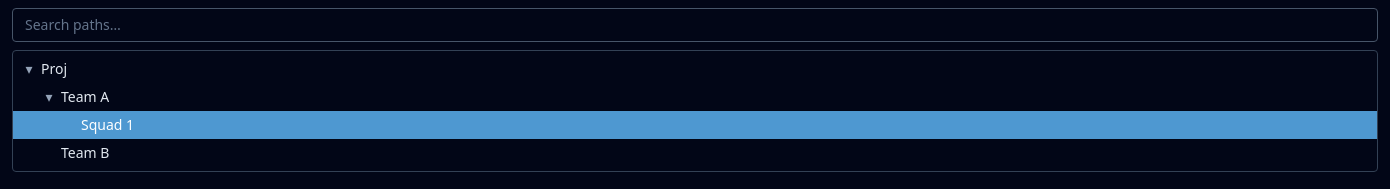
Scenario: PathTree › moves focus to a node collapsed with the mouse while a descendant has focus
The image size is (1390, 189).
Click the text with test id "tree-toggle" next to "Team A" at (49, 96), box [46, 87, 52, 106]
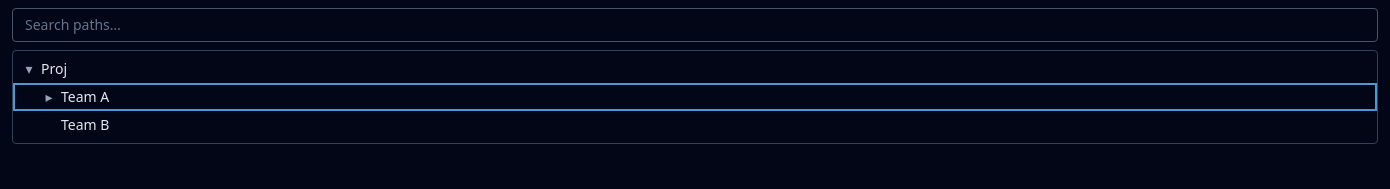
Now the text "Squad 1" is gone
